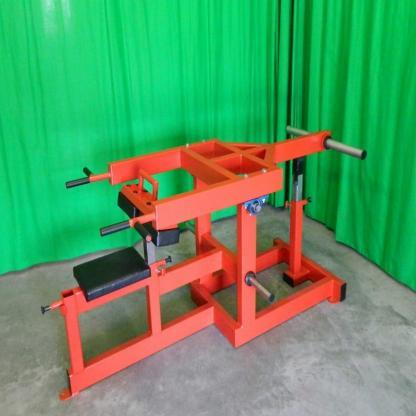seated dip machine: (41, 126, 368, 403)
